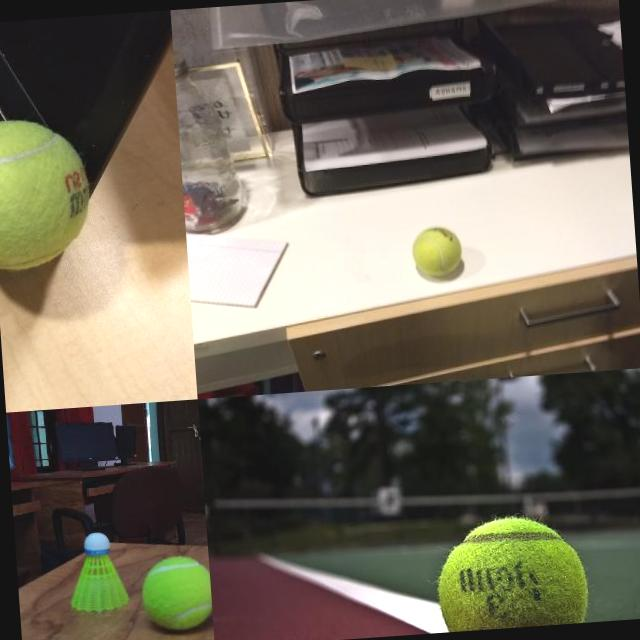Tennis Ball: (432, 510, 592, 631), (0, 111, 97, 272), (140, 554, 213, 632), (411, 225, 464, 277)
